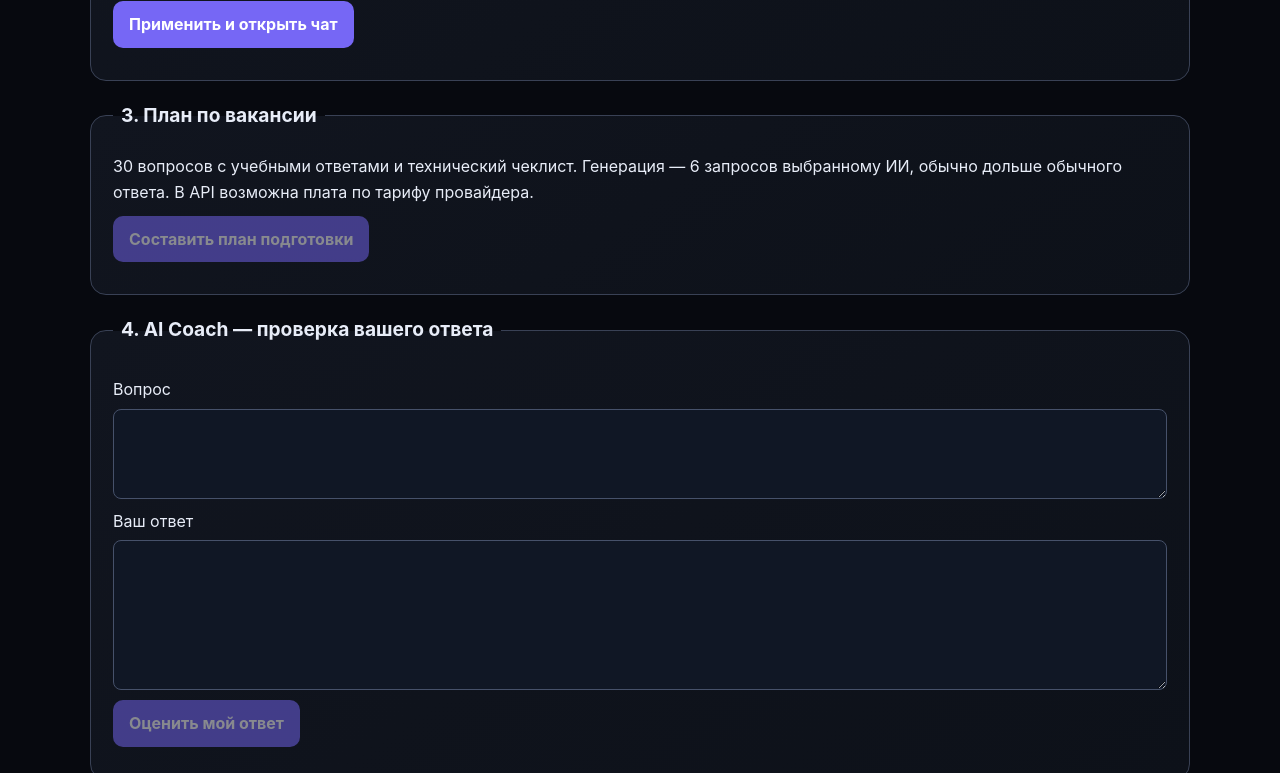
Test: plan needs a selected vacancy; coach shows server error without fabricated score
(page scrolled)
Check: the button "Составить план подготовки" is disabled, box 113,216 -> 370,262
Type "Что такое Python?" into the text box labelled "Вопрос". click: (640, 454)
box: 113,409 -> 1167,499
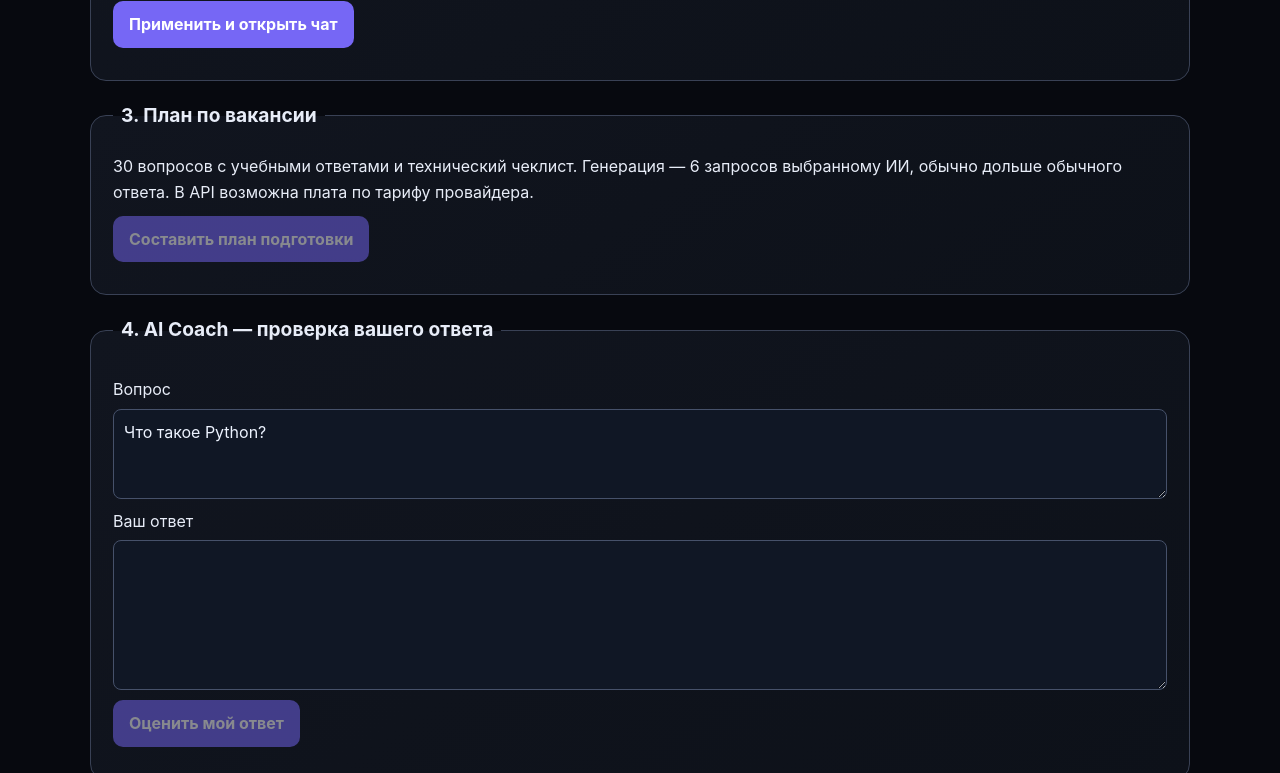
Type "Язык программирования" into the text box labelled "Ваш ответ". click: (640, 615)
box: 113,540 -> 1167,690
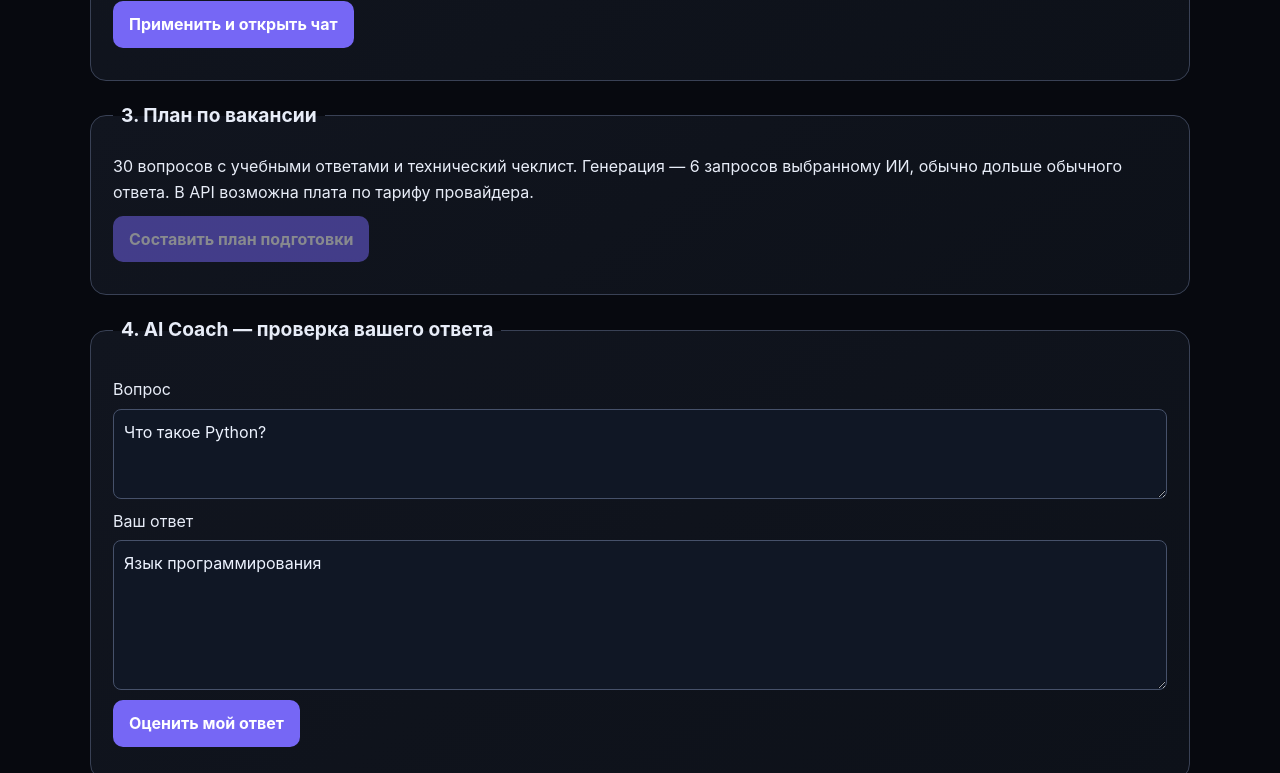
Click the button "Оценить мой ответ". click: (206, 724)
box: 113,700 -> 300,747
(page scrolled)
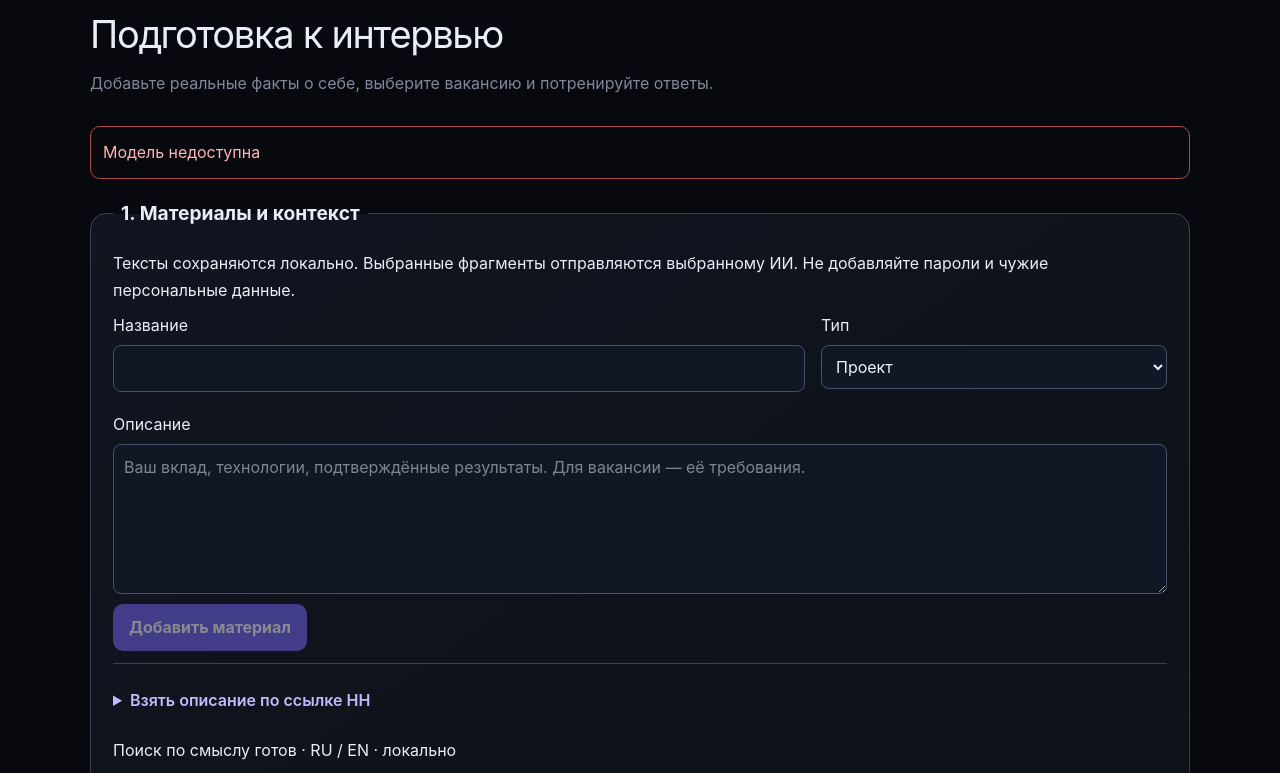
Check: the message reads "Модель недоступна", box 103,142 -> 260,162
